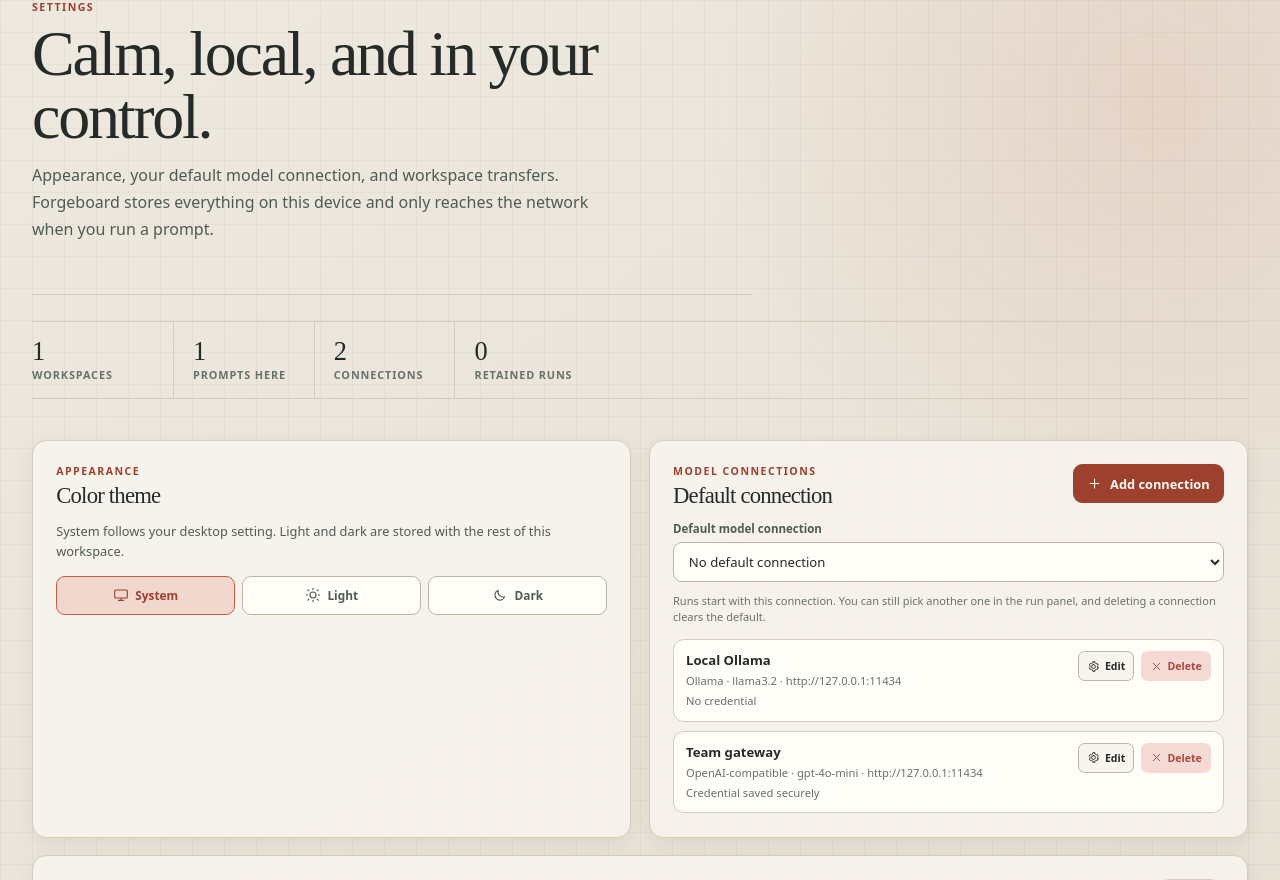
Test: connection cleanup › deletes the connection after an explicit confirmation
Click the button with aria-label "Delete connection Team gateway" at coordinates (1176, 758), box [1141,743,1211,773]
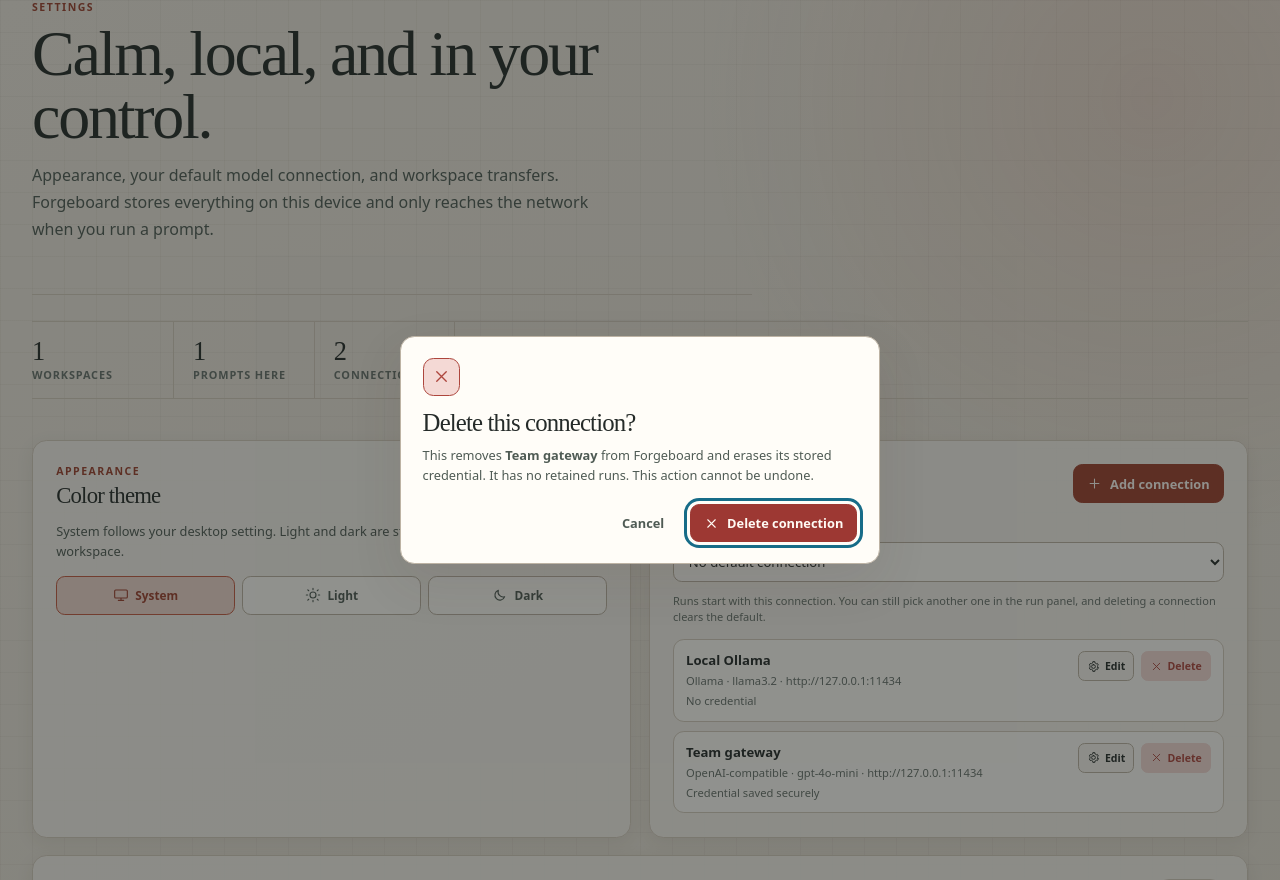
Click the button "Delete connection" at coordinates (774, 523), box [690,504,857,542]
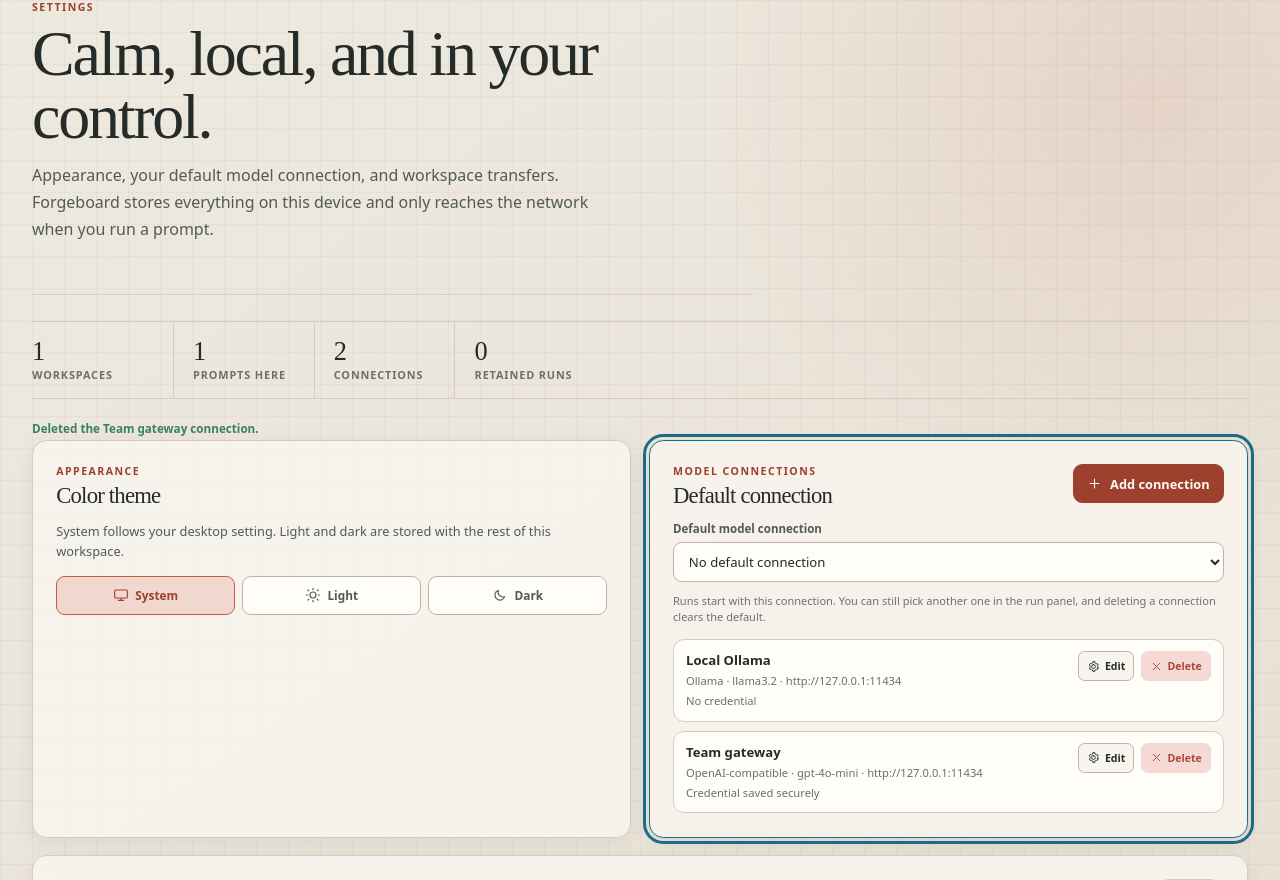
Now the text "Deleted the Team gateway connection." is shown, box [32,421,259,436]
Now the dialog is gone
